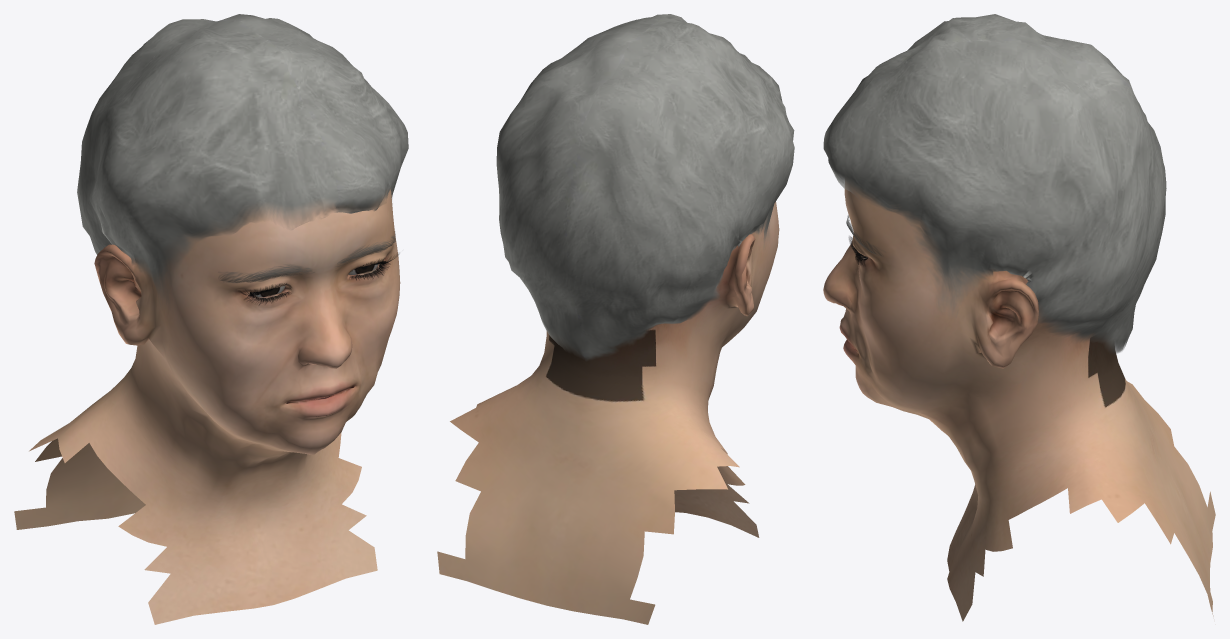
Rendered from patient09.glb.
3 renders of one model, left to right at view 1: azimuth 30°, elevation 25°; view 2: azimuth 150°, elevation 25°; view 3: azimuth 270°, elevation 25°, orthographic. The views are drawn at different scales.
Parts seen in each view (by area): view 1: boksun_halmae.body, boksun_halmae.short02, boksun_halmae.eyebrow009, boksun_halmae.eyelashes02; view 2: boksun_halmae.short02, boksun_halmae.body; view 3: boksun_halmae.short02, boksun_halmae.body.
Boxes of the visible parts, box(x1,y1,x2,y2) form: boksun_halmae.body: box(14, 188, 400, 624); boksun_halmae.short02: box(77, 14, 408, 303); boksun_halmae.eyebrow009: box(219, 233, 395, 282); boksun_halmae.eyelashes02: box(239, 253, 398, 304); boksun_halmae.short02: box(496, 14, 794, 360); boksun_halmae.body: box(437, 202, 779, 624); boksun_halmae.short02: box(823, 14, 1166, 353); boksun_halmae.body: box(823, 180, 1215, 621).
Bounding box in the file's own units: 0.1809 × 0.3113 × 0.2038.
8 materials, 7 textured.
